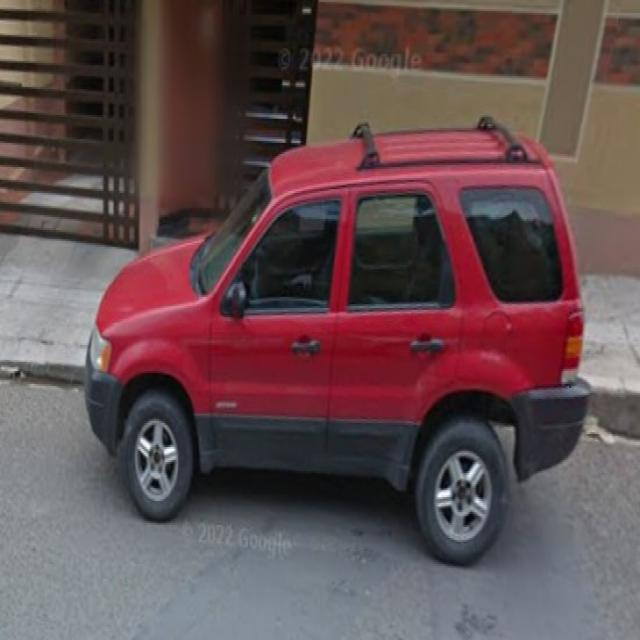Car: (71, 123, 584, 555)
